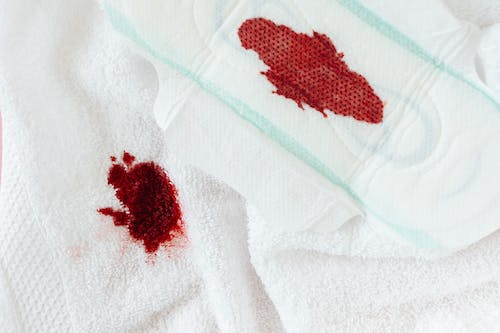blood: (236, 14, 386, 125), (93, 148, 193, 266)
